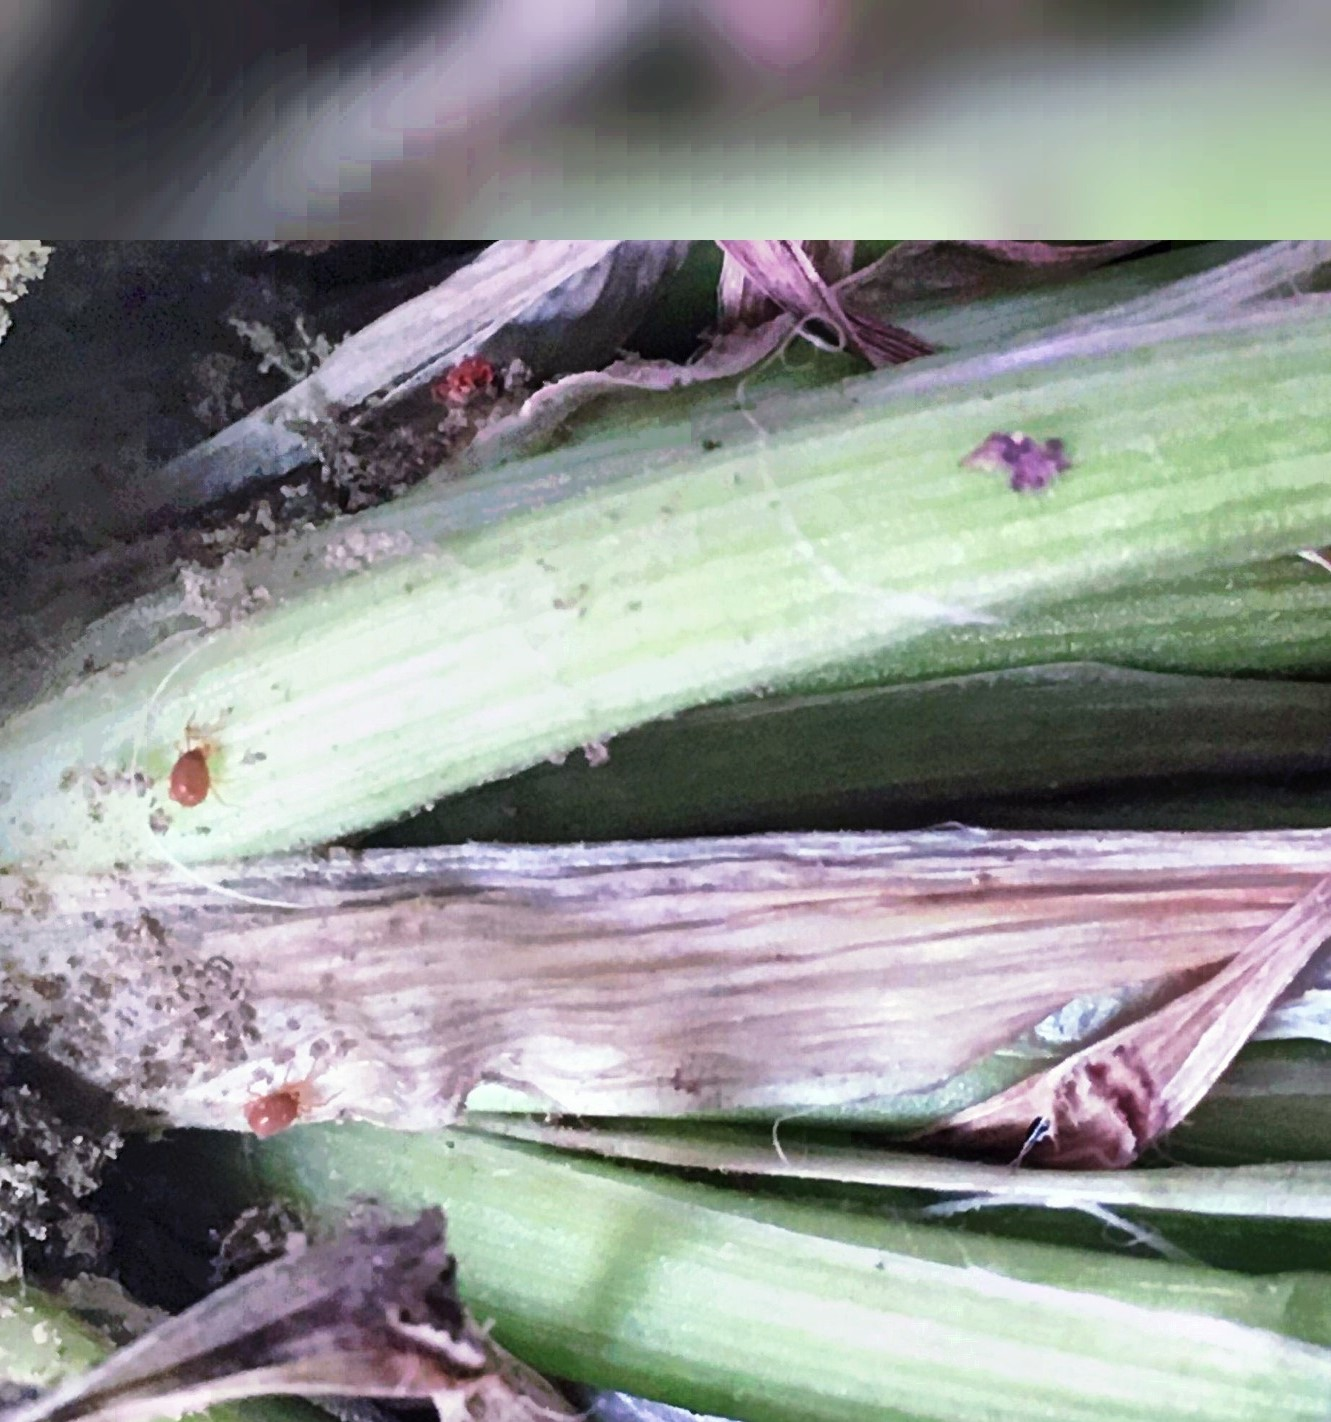Wheat Red Spider: (211, 1044, 349, 1164), (154, 712, 246, 854)
